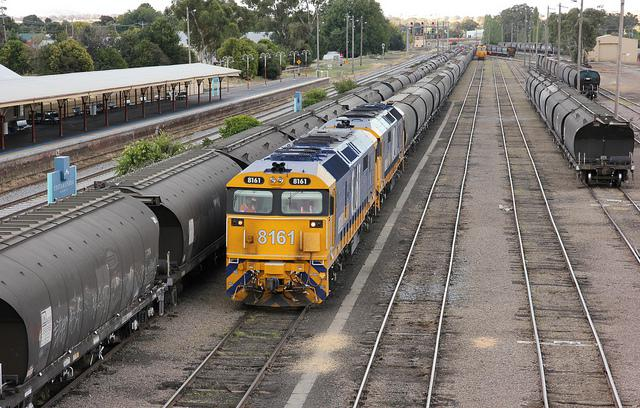Train: (0, 41, 468, 404), (226, 44, 479, 309), (525, 68, 635, 192), (534, 54, 603, 101), (499, 42, 559, 53), (487, 45, 517, 58), (477, 45, 488, 61)
